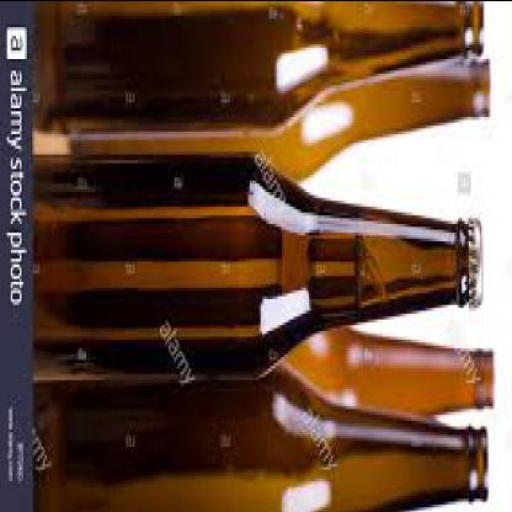glass: (33, 150, 468, 377), (34, 359, 490, 509), (36, 2, 486, 130), (70, 58, 494, 182), (238, 321, 496, 422)
metal: (468, 217, 485, 301)
